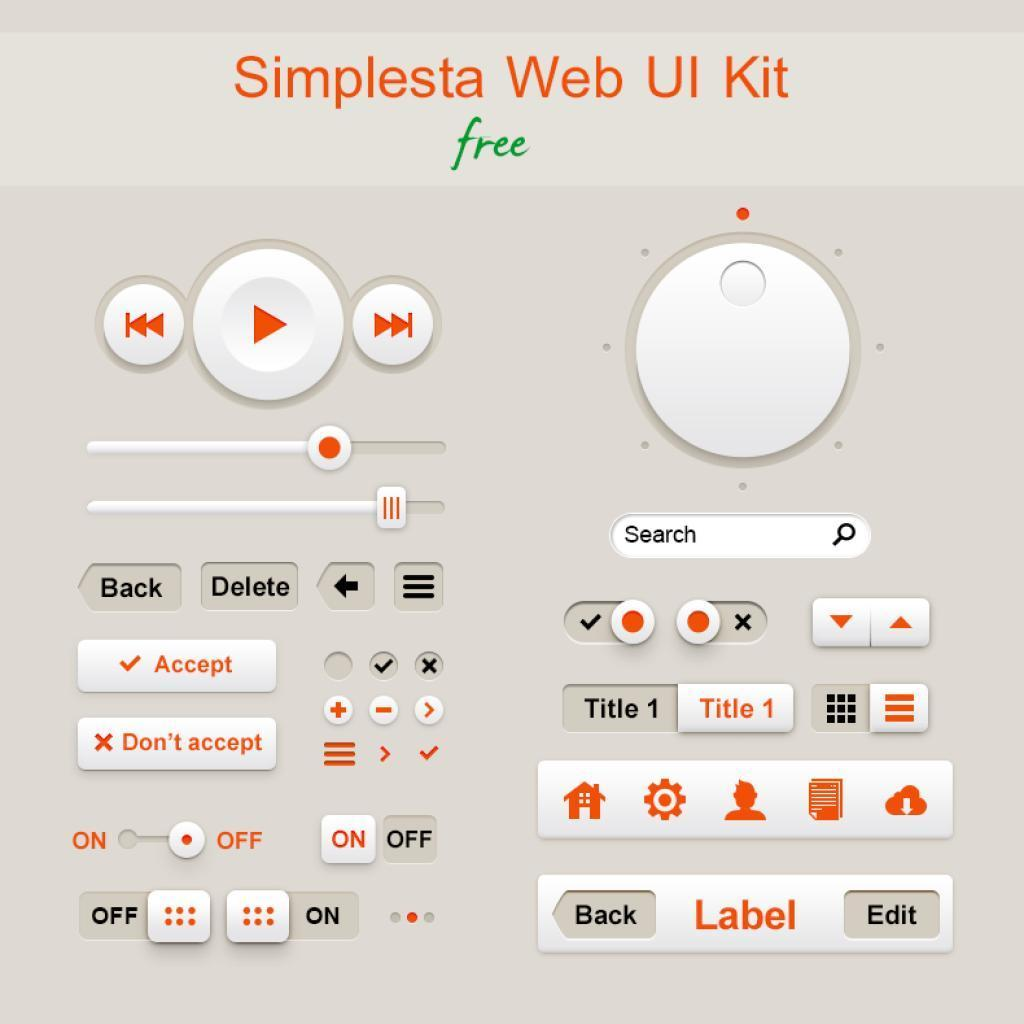button: (76, 643, 280, 695), (79, 717, 276, 768), (562, 685, 679, 734), (680, 684, 795, 732), (554, 890, 656, 940), (202, 561, 301, 612), (78, 565, 181, 611), (845, 890, 940, 939)
icon: (880, 691, 920, 728), (824, 690, 861, 729), (400, 574, 437, 603), (330, 574, 364, 604)
input: (614, 517, 873, 561)
slider: (79, 486, 464, 536), (77, 423, 452, 471)
switch: (314, 806, 449, 871), (80, 889, 211, 946), (226, 891, 361, 945), (559, 592, 654, 645), (676, 594, 767, 649), (115, 817, 209, 864)
